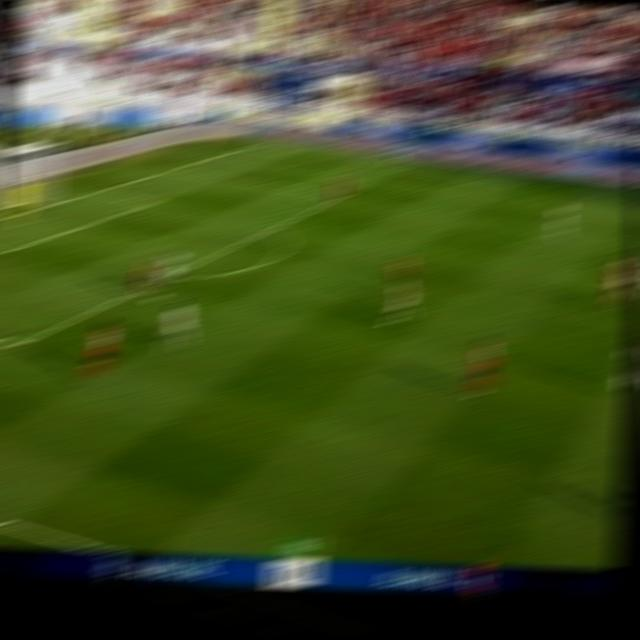bigarea_bottom_inner: (6, 330, 34, 355)
bigarea_top_outter: (160, 161, 184, 174)
bottom_arc_area_intersection: (157, 268, 181, 284)
corner: (233, 141, 257, 150)
smallarea_top_inner: (139, 194, 164, 207)
smallarea_top_outter: (83, 182, 107, 198)
top_arc_area_intersection: (260, 218, 285, 235)
